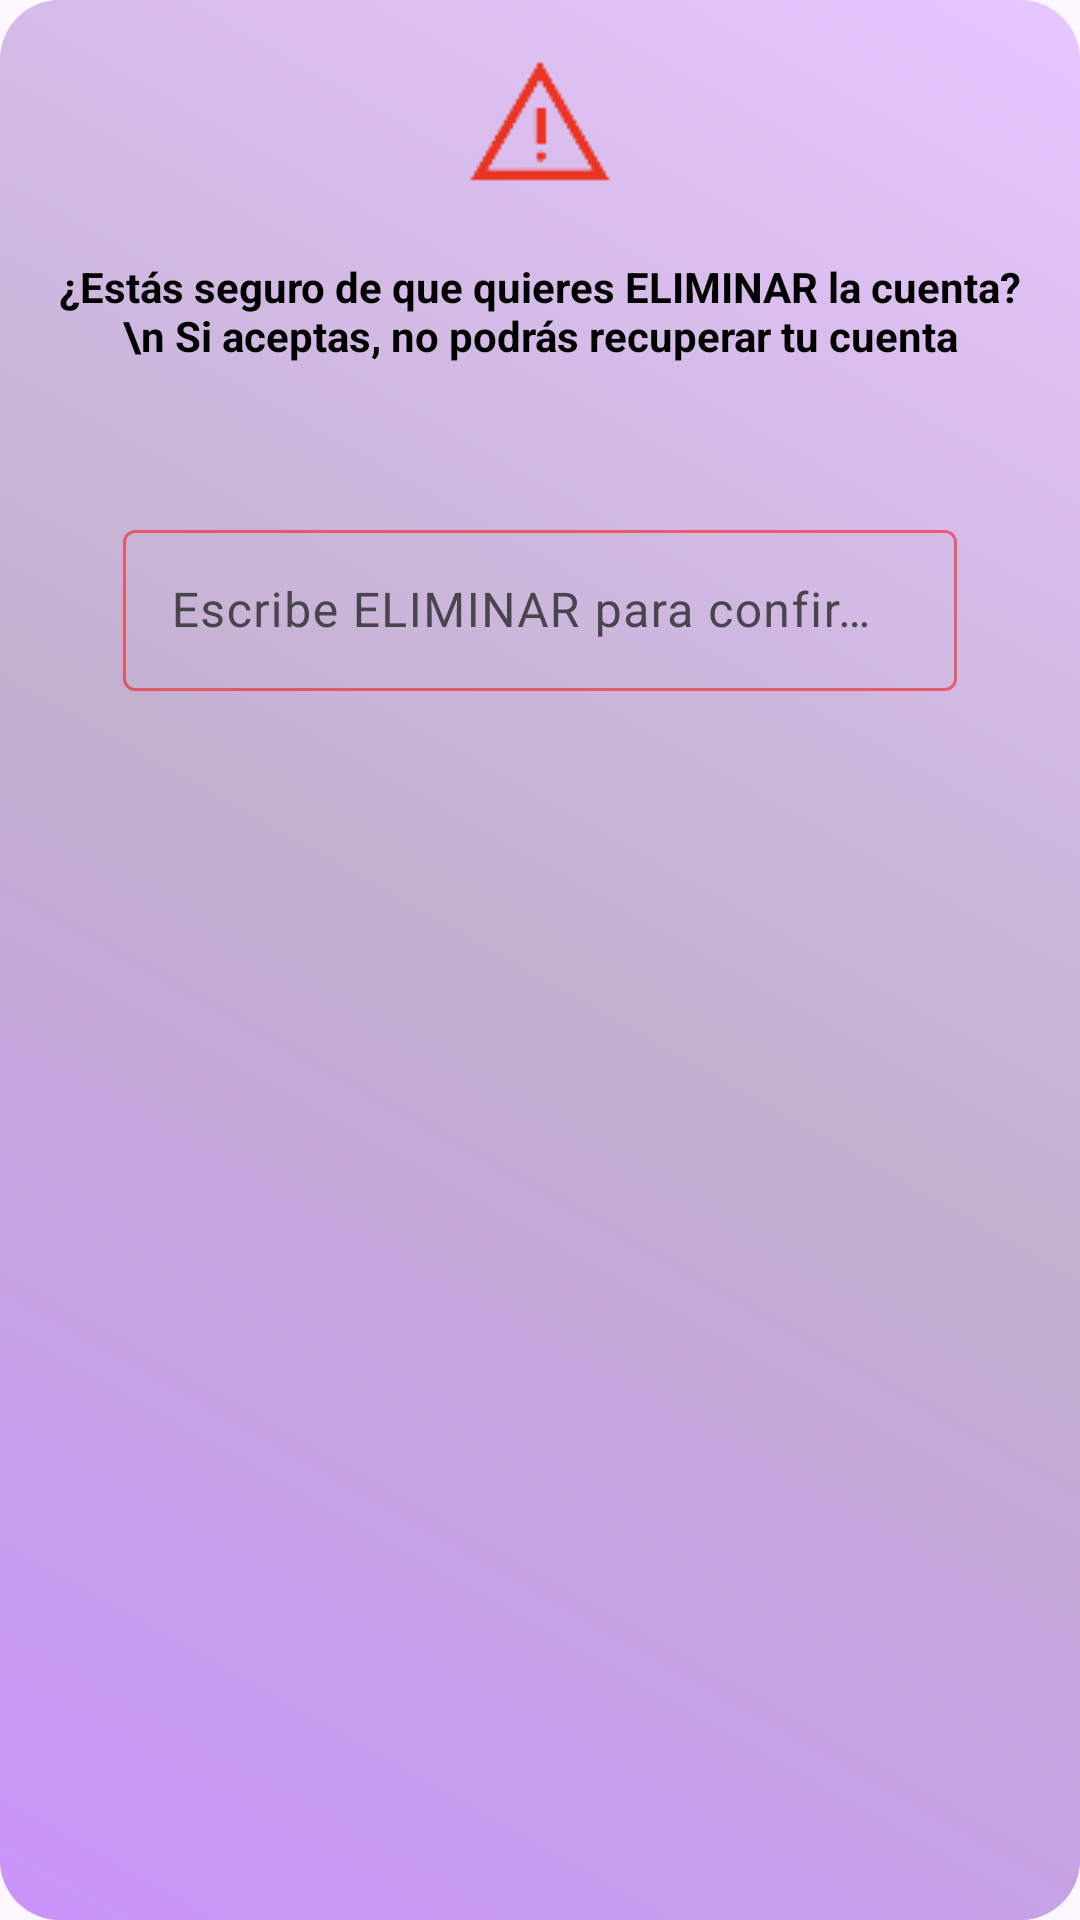

Where icons sit on this 1080px x 1920px app screen, as region(x1, y1, x2, y2):
alert: region(470, 62, 610, 181)
